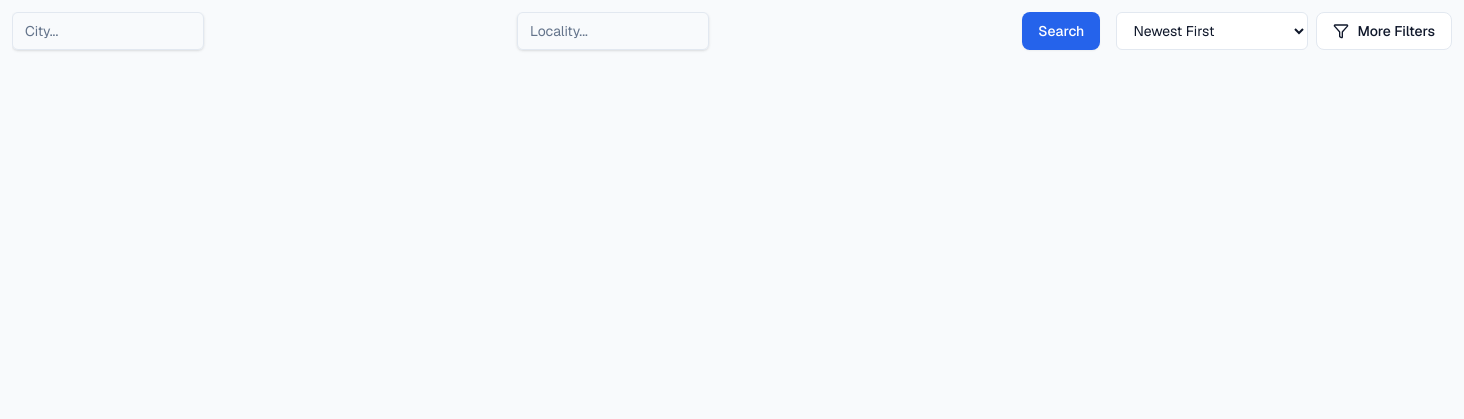
Scenario: PropertyFilters component › toggles the advanced filters panel open and closed
Click the button "More Filters": click(1384, 31) x1=1316 y1=12 x2=1452 y2=50
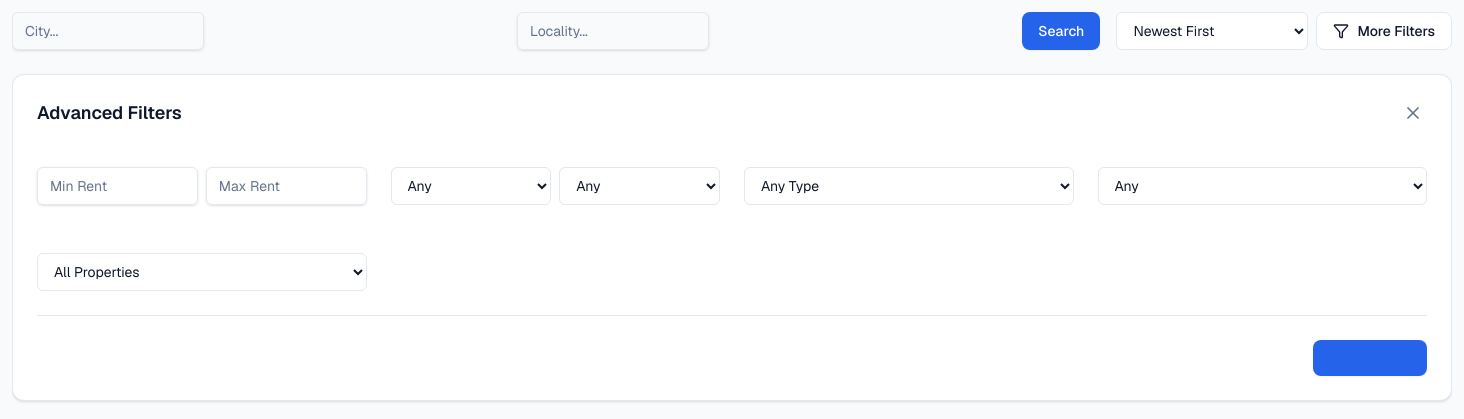
Expected: the heading "Advanced Filters" is shown, x1=37 y1=99 x2=182 y2=127
Expected: the number field labelled "Min Rent (₹)" is shown, x1=37 y1=167 x2=198 y2=205
Expected: the number field labelled "Max Rent (₹)" is shown, x1=206 y1=167 x2=367 y2=205
Note: Close via X button
Click the 3rd button: click(1413, 113) x1=1399 y1=99 x2=1427 y2=127
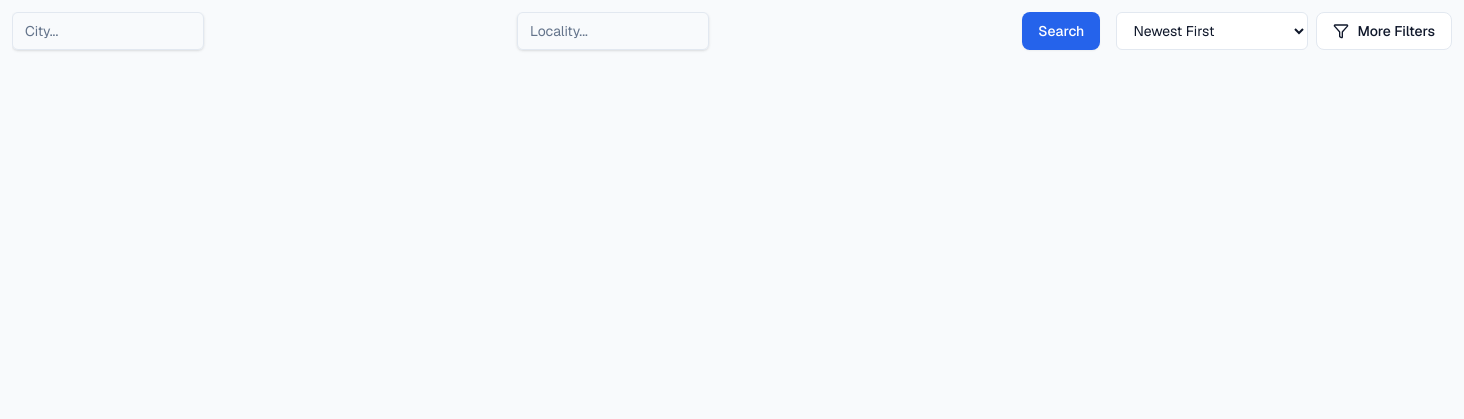
Expected: the heading "Advanced Filters" is gone
